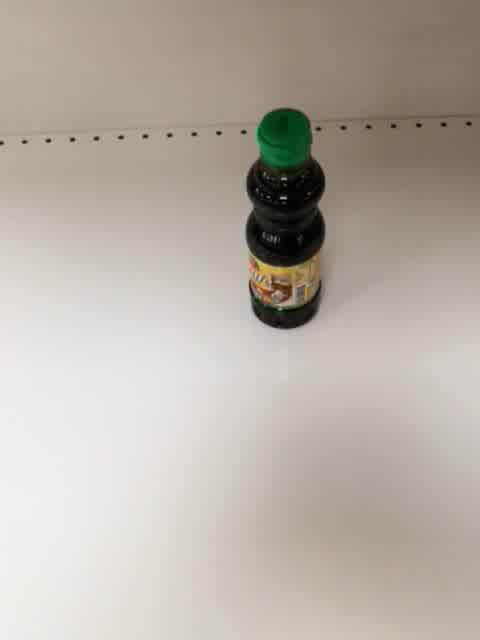cookingoil: (243, 105, 330, 332)
